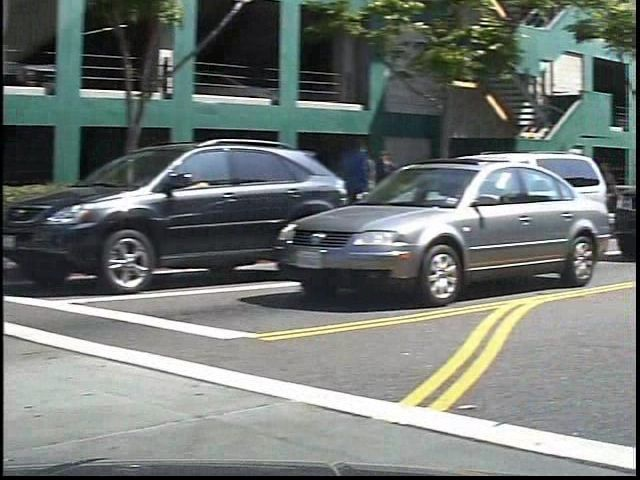person: (353, 131, 397, 240)
